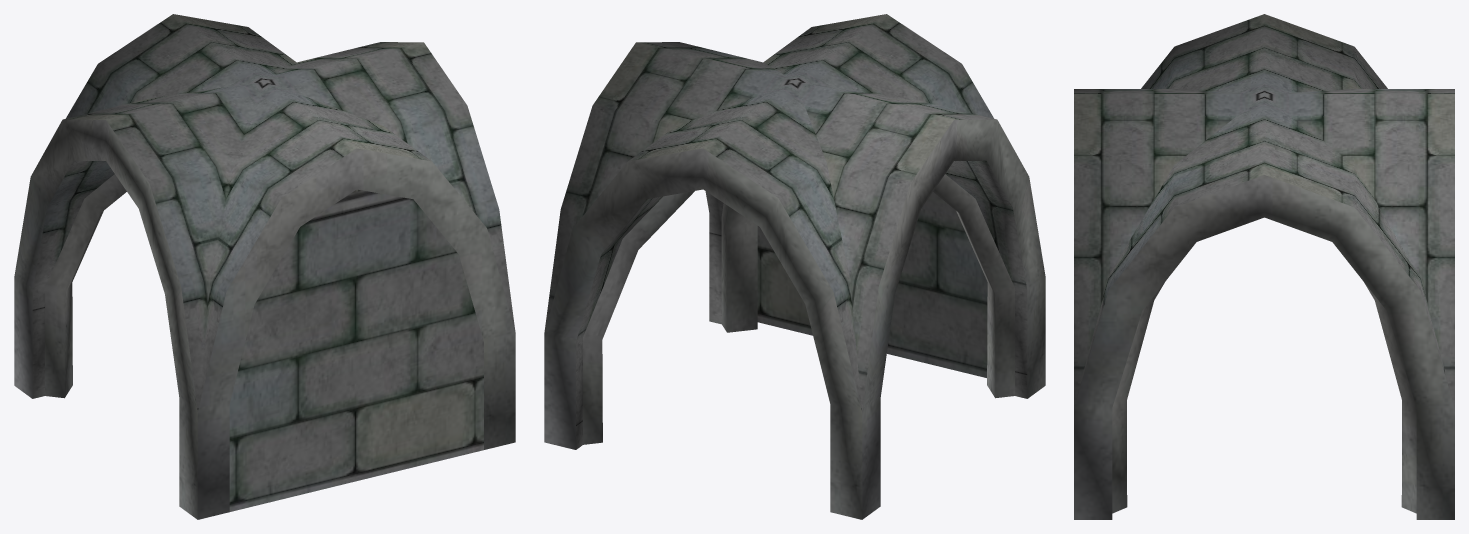
The model's file is vault_ceiling_small_02.glb.
3 views of the same model, side by side, from view 1: azimuth 30°, elevation 25°; view 2: azimuth 150°, elevation 25°; view 3: azimuth 270°, elevation 25° (orthographic). The views are drawn at different scales.
Parts seen in each view (by area): view 1: vault_ceiling_small_02; view 2: vault_ceiling_small_02; view 3: vault_ceiling_small_02.
Part boxes in pixels (x1=…): vault_ceiling_small_02: x1=14, y1=14, x2=515, y2=519; vault_ceiling_small_02: x1=544, y1=14, x2=1045, y2=519; vault_ceiling_small_02: x1=1074, y1=14, x2=1454, y2=519.
Size of the model in its own units: 2 by 2 by 2.
Materials: 1 (1 with a texture image).
